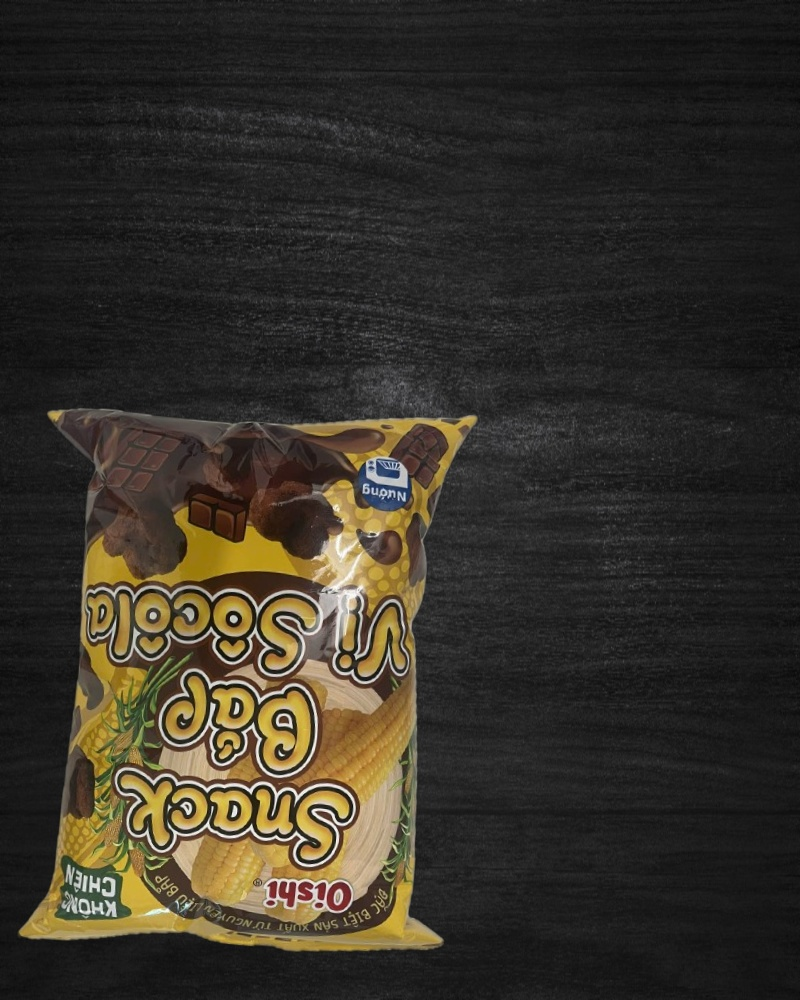Snack socola: (3, 382, 490, 974)
